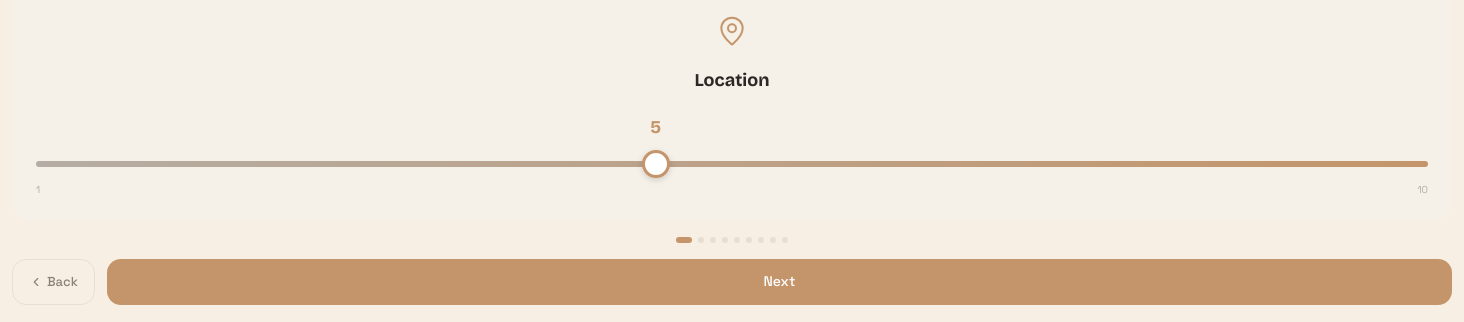
it: RatingCarousel › navigates to next card when next button clicked
Click the button with test id "next-btn" at coordinates (779, 282), box [107,259,1452,304]
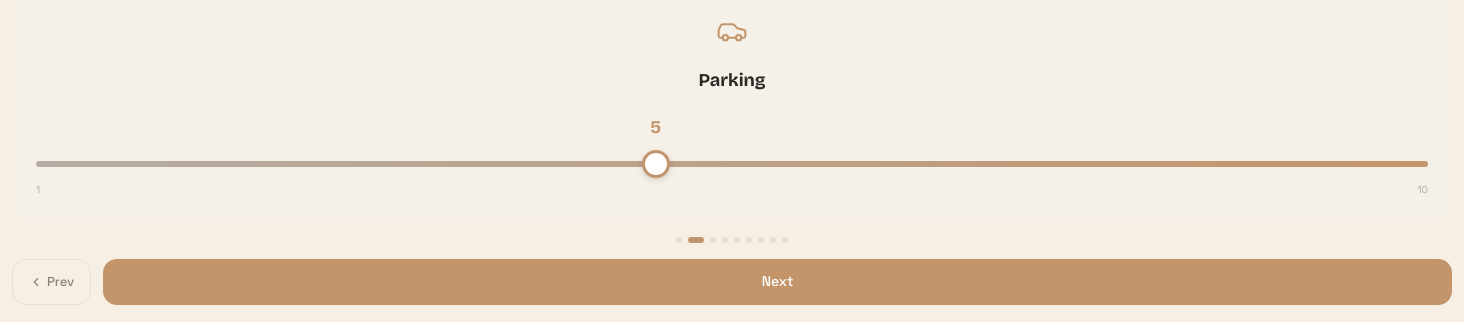
Expected: the heading "Parking" is shown, [698,67,766,94]
